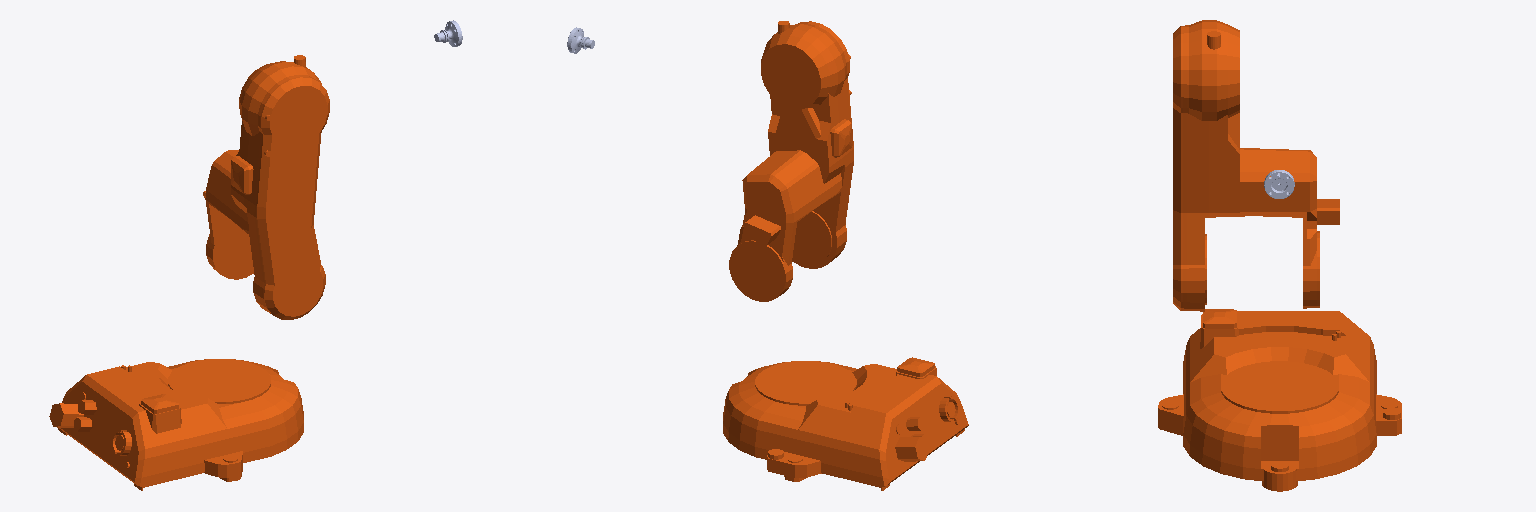
robot.urdf — irb140:
<?xml version="1.0" encoding="utf-8"?>
<!-- This URDF was automatically created by SolidWorks to URDF Exporter! Originally created by [author] ([email redacted]) 
     Commit Version: 1.6.0-1-g15f4949  Build Version: 1.6.7594.29634
     For more information, please see http://wiki.ros.org/sw_urdf_exporter -->
<robot
  name="irb140">
  <link
    name="base_link">
    <inertial>
      <origin
        xyz="-0.082039 0.00040203 0.059925"
        rpy="0 0 0" />
      <mass
        value="96.79" />
      <inertia
        ixx="0.81512"
        ixy="-7.8406E-05"
        ixz="0.057274"
        iyy="1.3048"
        iyz="0.0065755"
        izz="1.9226" />
    </inertial>
    <visual>
      <origin
        xyz="0 0 0"
        rpy="0 0 0" />
      <geometry>
        <mesh
          filename="package://abb_irb140_config/meshes/link_1.STL" />
      </geometry>
      <material
        name="">
        <color
          rgba="0.8902 0.41176 0.12549 1" />
      </material>
    </visual>
    <collision>
      <origin
        xyz="0 0 0"
        rpy="0 0 0" />
      <geometry>
        <mesh
          filename="package://abb_irb140_config/meshes/link_1.STL" />
      </geometry>
    </collision>
  </link>
  <link
    name="link_2">
    <inertial>
      <origin
        xyz="0.028339 0.042934 0.1749"
        rpy="0 0 0" />
      <mass
        value="127.76" />
      <inertia
        ixx="1.7425"
        ixy="-0.13653"
        ixz="-0.31289"
        iyy="1.4176"
        iyz="-0.172"
        izz="1.3947" />
    </inertial>
    <visual>
      <origin
        xyz="0 0 0"
        rpy="0 0 0" />
      <geometry>
        <mesh
          filename="package://abb_irb140_config/meshes/link_2.STL" />
      </geometry>
      <material
        name="">
        <color
          rgba="0.8902 0.41176 0.12549 1" />
      </material>
    </visual>
    <collision>
      <origin
        xyz="0 0 0"
        rpy="0 0 0" />
      <geometry>
        <mesh
          filename="package://abb_irb140_config/meshes/link_2.STL" />
      </geometry>
    </collision>
  </link>
  <joint
    name="joint_1"
    type="continuous">
    <origin
      xyz="0 0 0.0903"
      rpy="0 0 0" />
    <parent
      link="base_link" />
    <child
      link="link_2" />
    <axis
      xyz="0 0 1" />
  </joint>
  <link
    name="link_3">
    <inertial>
      <origin
        xyz="-0.0089688 -0.092434 0.19832"
        rpy="0 0 0" />
      <mass
        value="59.127" />
      <inertia
        ixx="1.2146"
        ixy="0.0045622"
        ixz="-0.017575"
        iyy="1.0257"
        iyz="0.14021"
        izz="0.35063" />
    </inertial>
    <visual>
      <origin
        xyz="0 0 0"
        rpy="0 0 0" />
      <geometry>
        <mesh
          filename="package://abb_irb140_config/meshes/link_3.STL" />
      </geometry>
      <material
        name="">
        <color
          rgba="0.8902 0.41176 0.12549 1" />
      </material>
    </visual>
    <collision>
      <origin
        xyz="0 0 0"
        rpy="0 0 0" />
      <geometry>
        <mesh
          filename="package://abb_irb140_config/meshes/link_3.STL" />
      </geometry>
    </collision>
  </link>
  <joint
    name="joint_2"
    type="continuous">
    <origin
      xyz="0.07 0 0.263"
      rpy="0 0 0" />
    <parent
      link="link_2" />
    <child
      link="link_3" />
    <axis
      xyz="0 1 0" />
  </joint>
  <link
    name="link_4">
    <inertial>
      <origin
        xyz="0.019583 0.0070079 -0.0056775"
        rpy="0 0 0" />
      <mass
        value="62.639" />
      <inertia
        ixx="0.24949"
        ixy="0.022227"
        ixz="0.014419"
        iyy="0.70079"
        iyz="0.0028359"
        izz="0.63695" />
    </inertial>
    <visual>
      <origin
        xyz="0 0 0"
        rpy="0 0 0" />
      <geometry>
        <mesh
          filename="package://abb_irb140_config/meshes/link_4.STL" />
      </geometry>
      <material
        name="">
        <color
          rgba="0.8902 0.41176 0.12549 1" />
      </material>
    </visual>
    <collision>
      <origin
        xyz="0 0 0"
        rpy="0 0 0" />
      <geometry>
        <mesh
          filename="package://abb_irb140_config/meshes/link_4.STL" />
      </geometry>
    </collision>
  </link>
  <joint
    name="joint_3"
    type="continuous">
    <origin
      xyz="0.0013778 0 0.36"
      rpy="0 0 0" />
    <parent
      link="link_3" />
    <child
      link="link_4" />
    <axis
      xyz="0 1 0" />
  </joint>
  <link
    name="link_5">
    <inertial>
      <origin
        xyz="0.093068 -0.0012122 -0.0014339"
        rpy="0 0 0" />
      <mass
        value="13.808" />
      <inertia
        ixx="0.025879"
        ixy="0.00075357"
        ixz="-0.00064679"
        iyy="0.03672"
        iyz="9.774E-06"
        izz="0.042443" />
    </inertial>
    <visual>
      <origin
        xyz="0 0 0"
        rpy="0 0 0" />
      <geometry>
        <mesh
          filename="package://abb_irb140_config/meshes/link_5.STL" />
      </geometry>
      <material
        name="">
        <color
          rgba="0.8902 0.41176 0.12549 1" />
      </material>
    </visual>
    <collision>
      <origin
        xyz="0 0 0"
        rpy="0 0 0" />
      <geometry>
        <mesh
          filename="package://abb_irb140_config/meshes/link_5.STL" />
      </geometry>
    </collision>
  </link>
  <joint
    name="joint_4"
    type="continuous">
    <origin
      xyz="0.2185 -0.0005 0"
      rpy="0 0 0" />
    <parent
      link="link_4" />
    <child
      link="link_5" />
    <axis
      xyz="1 0 0" />
  </joint>
  <link
    name="link_6">
    <inertial>
      <origin
        xyz="-0.0013824 1.8928E-05 -0.00016171"
        rpy="0 0 0" />
      <mass
        value="1.1353" />
      <inertia
        ixx="0.00055166"
        ixy="-1.0646E-06"
        ixz="-1.297E-06"
        iyy="0.00086531"
        iyz="4.5759E-08"
        izz="0.0005335" />
    </inertial>
    <visual>
      <origin
        xyz="0 0 0"
        rpy="0 0 0" />
      <geometry>
        <mesh
          filename="package://abb_irb140_config/meshes/link_6.STL" />
      </geometry>
      <material
        name="">
        <color
          rgba="0.8902 0.41176 0.12549 1" />
      </material>
    </visual>
    <collision>
      <origin
        xyz="0 0 0"
        rpy="0 0 0" />
      <geometry>
        <mesh
          filename="package://abb_irb140_config/meshes/link_6.STL" />
      </geometry>
    </collision>
  </link>
  <joint
    name="joint_5"
    type="continuous">
    <origin
      xyz="0.1615 0 0"
      rpy="0 0 0" />
    <parent
      link="link_5" />
    <child
      link="link_6" />
    <axis
      xyz="0 1 0" />
  </joint>
  <link
    name="link_7">
    <inertial>
      <origin
        xyz="0.029623 5.0678E-10 -0.00022503"
        rpy="0 0 0" />
      <mass
        value="0.20175" />
      <inertia
        ixx="4.6661E-05"
        ixy="2.5845E-12"
        ixz="3.5743E-07"
        iyy="4.8163E-05"
        iyz="5.2731E-12"
        izz="4.9079E-05" />
    </inertial>
    <visual>
      <origin
        xyz="0 0 0"
        rpy="0 0 0" />
      <geometry>
        <mesh
          filename="package://abb_irb140_config/meshes/link_7.STL" />
      </geometry>
      <material
        name="">
        <color
          rgba="0.79608 0.82353 0.93333 1" />
      </material>
    </visual>
    <collision>
      <origin
        xyz="0 0 0"
        rpy="0 0 0" />
      <geometry>
        <mesh
          filename="package://abb_irb140_config/meshes/link_7.STL" />
      </geometry>
    </collision>
  </link>
  <joint
    name="joint_6"
    type="continuous">
    <origin
      xyz="0.02112 -0.00059797 0"
      rpy="0 0 0" />
    <parent
      link="link_6" />
    <child
      link="link_7" />
    <axis
      xyz="1 0 0" />
  </joint>
</robot>

--- Facts derived from the render (not from the file) ---
3 views of the same robot in one strip: view 1: azimuth 30°, elevation 25°; view 2: azimuth 150°, elevation 25°; view 3: azimuth 270°, elevation 25° (orthographic).
Model irb140 with 7 links and 6 joints (6 continuous), rooted at base_link, posed every joint at zero.
Links seen in each view (by area): view 1: base_link, link_3; view 2: link_3, base_link; view 3: base_link, link_3, link_7.
Link boxes in pixels (x1,y1,x2,y2): base_link: (49,359,303,490); link_3: (203,55,329,319); link_3: (729,21,853,301); base_link: (723,357,968,490); base_link: (1158,309,1401,491); link_3: (1173,20,1339,311); link_7: (1264,170,1294,198).
Bounding box of the posed robot: 0.8282 × 0.402 × 0.8002 m (x, y, z).
3 mesh visuals loaded from 7 distinct referenced files (3 binary STL); not drawn: 4 (reference not matched to a file when rendering).